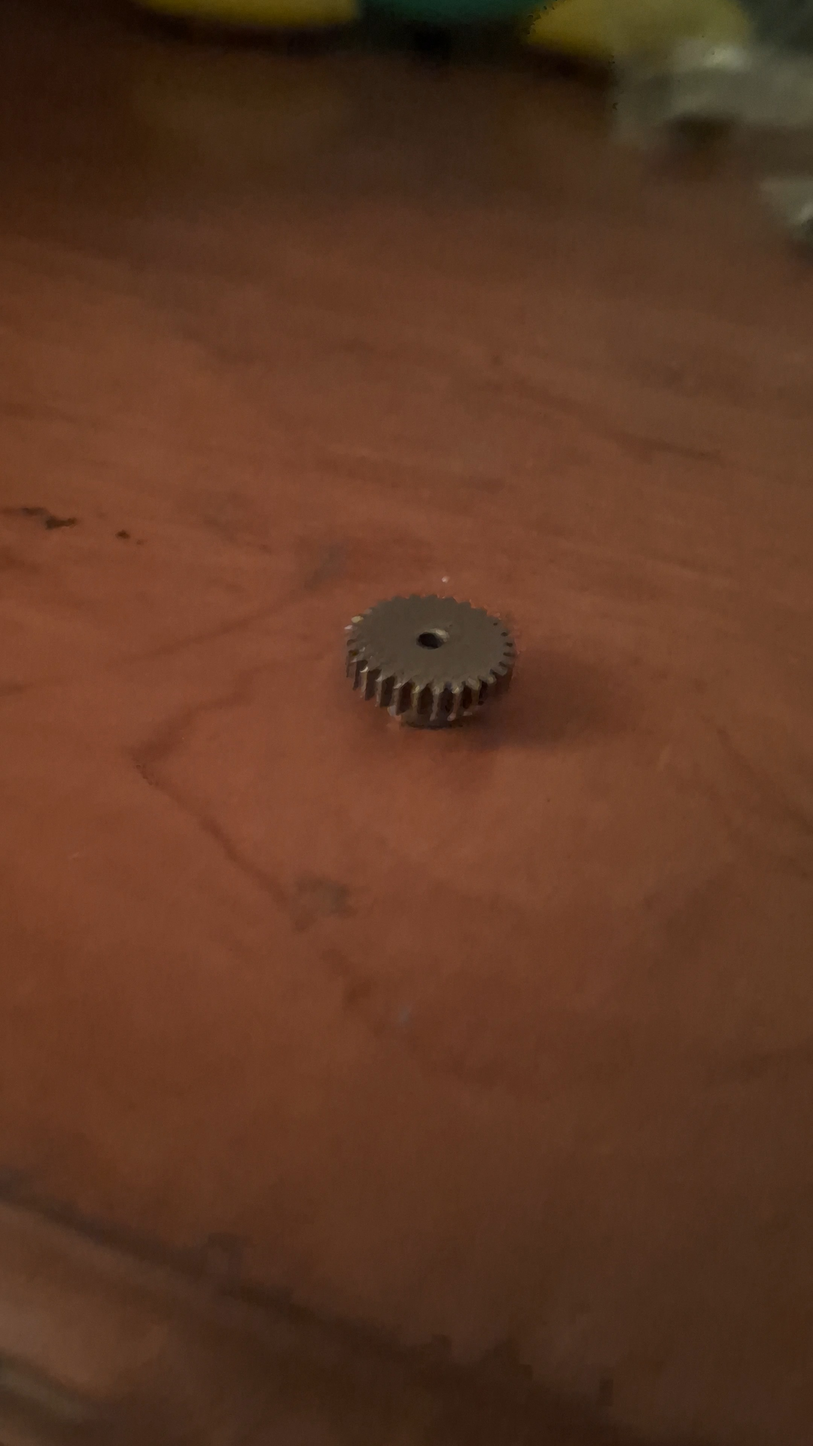spur gear: (347, 595, 515, 727)
